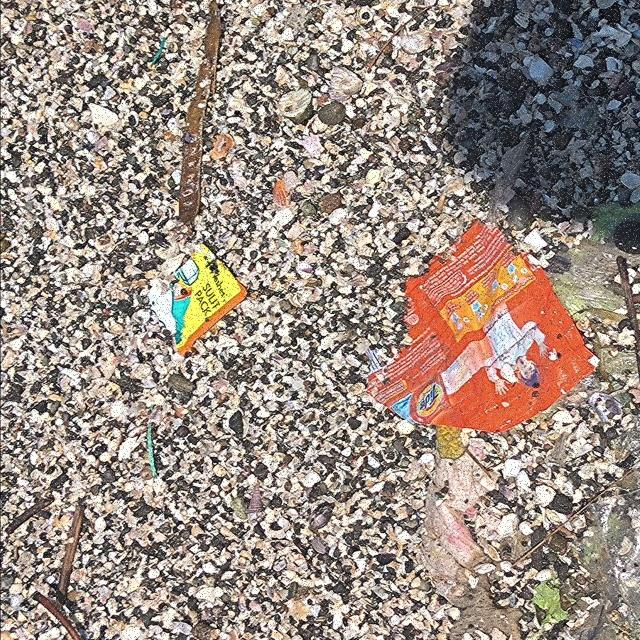plastic_waste: (364, 219, 602, 435), (146, 242, 249, 358)
